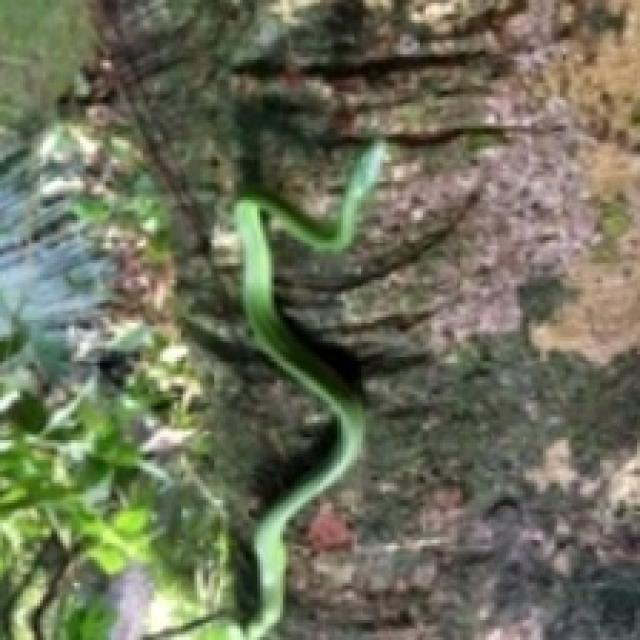red-tailed green ratsnake: (163, 140, 383, 637)
